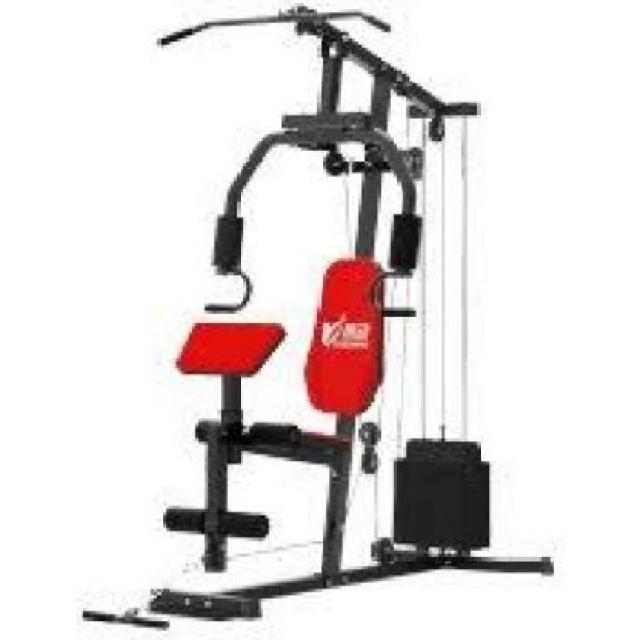chest fly machine: (77, 0, 566, 631)
